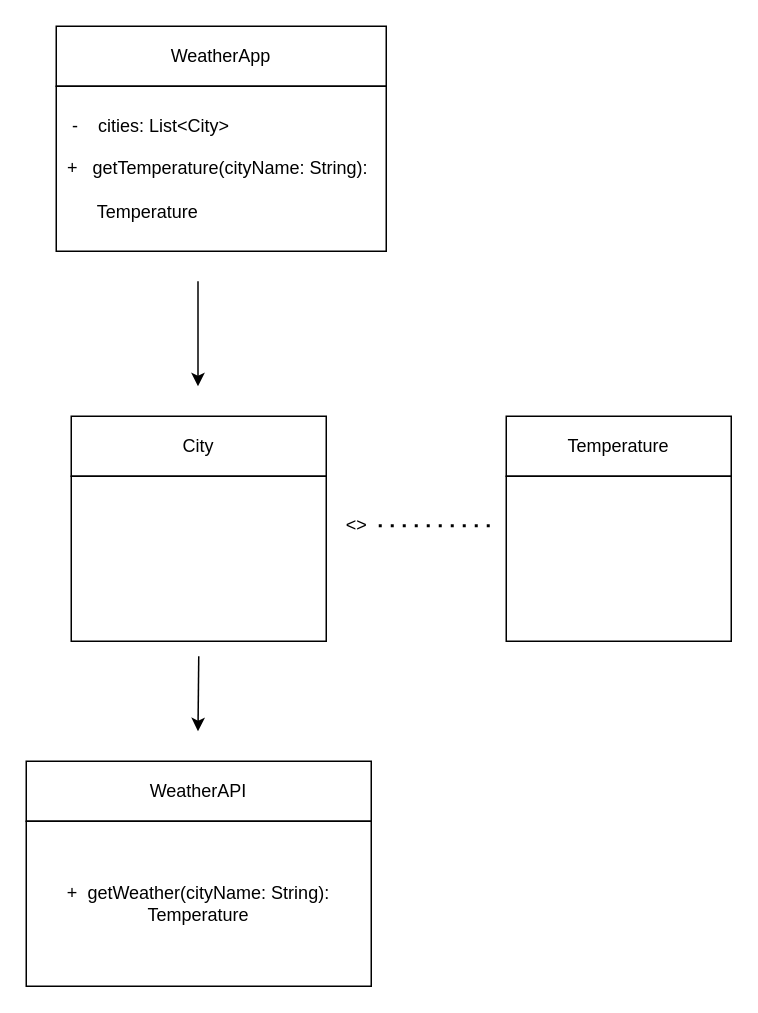
Some shapes in this 758 by 1013 pixel diagram are drawn without their labels. Here are the shapes that lost their labels. From the top down, the centre of each, then its label:
point 198,558: - name : String - id: String - coordinates: Coordinates
point 618,558: - high : Float - low : Float
